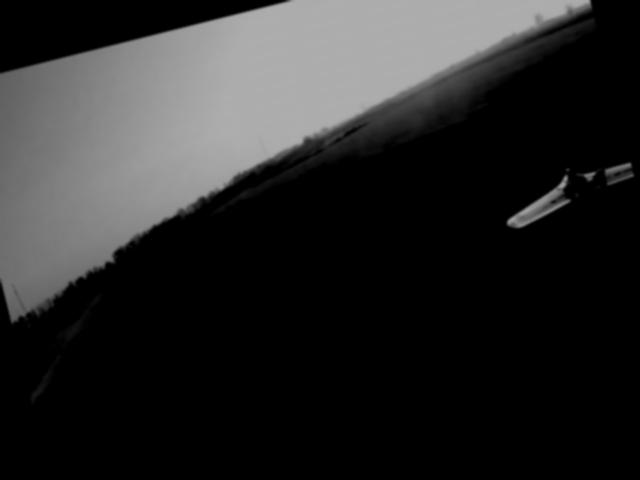hedef: (483, 137, 640, 253)
